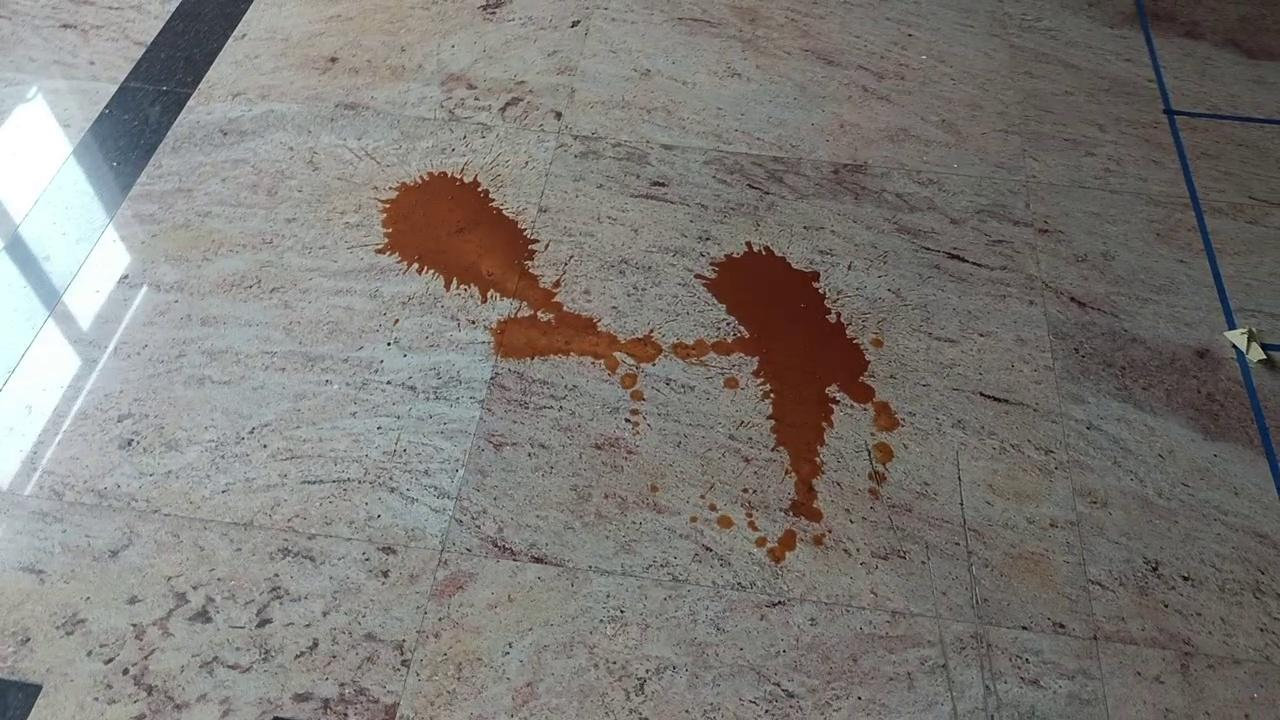dirty_floor: (368, 170, 903, 562)
